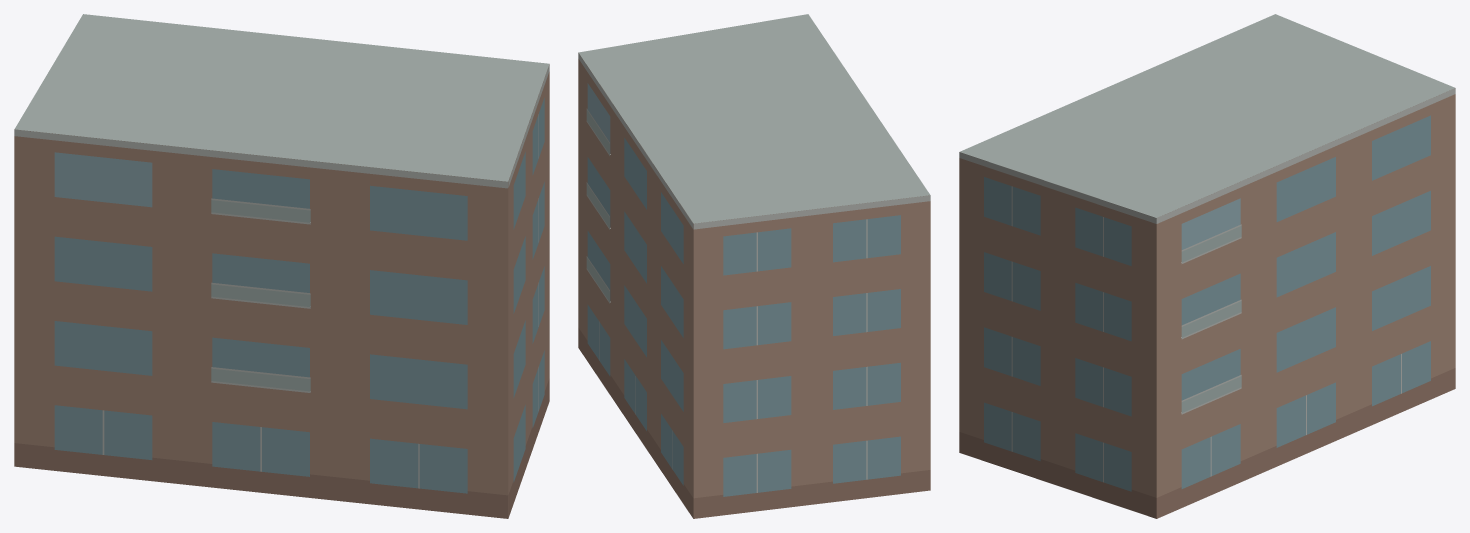
File: survey-upis-32652036.glb
3 views of the same model, side by side, from view 1: azimuth 30°, elevation 25°; view 2: azimuth 150°, elevation 25°; view 3: azimuth 270°, elevation 25° (orthographic). The views are drawn at different scales.
Parts seen in each view (by area): view 1: survey-upis-32652036.tmp; view 2: survey-upis-32652036.tmp; view 3: survey-upis-32652036.tmp.
Part boxes in pixels (x1,y1,x2,y2): survey-upis-32652036.tmp: (14,14,549,518); survey-upis-32652036.tmp: (578,14,930,518); survey-upis-32652036.tmp: (959,14,1455,518).
Size of the model in its own units: 17.76 by 12.2 by 18.25.
